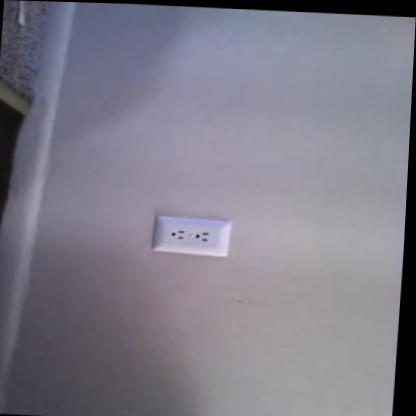OUTLET: (150, 212, 234, 257)
